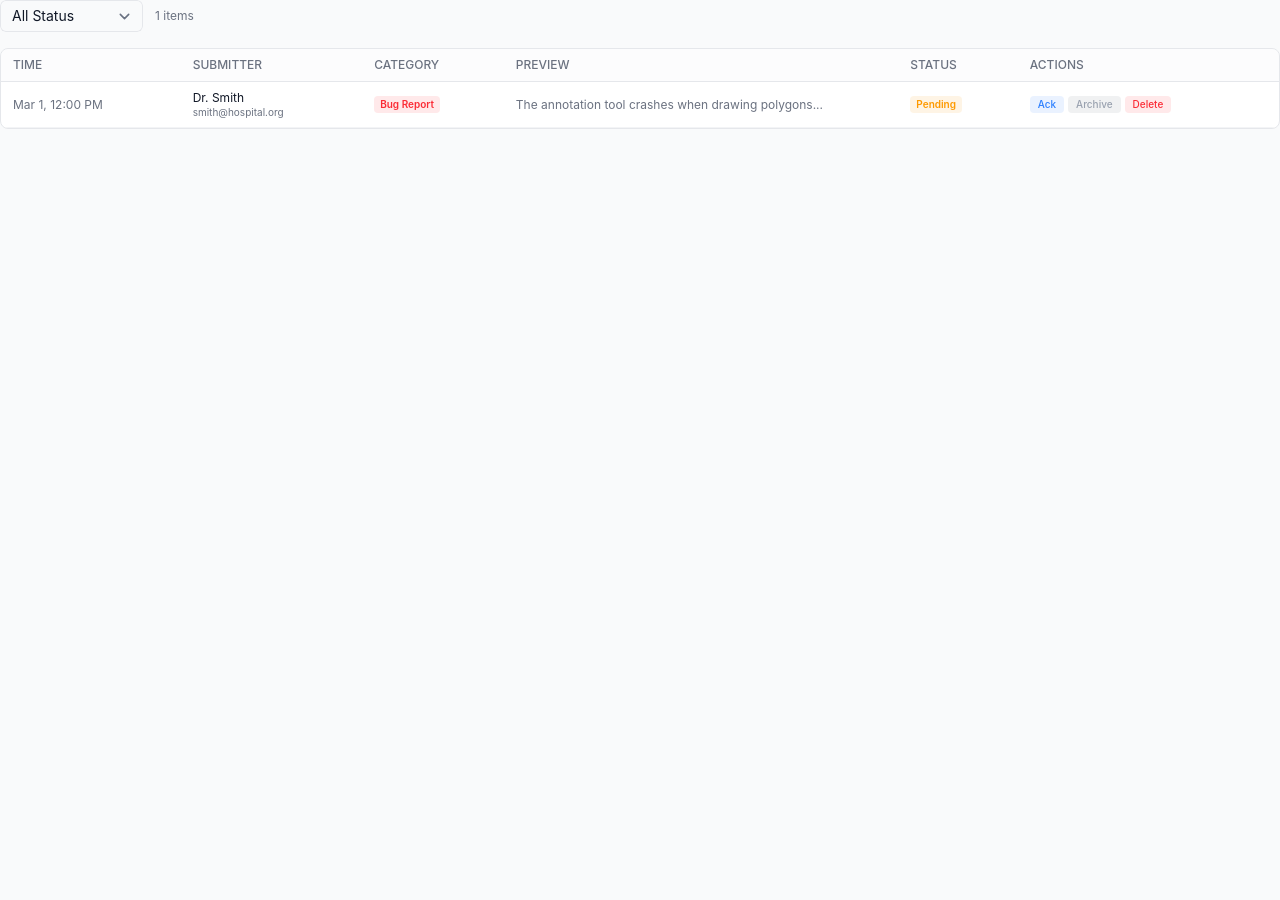
Test: Admin Feedback Page › delete with confirmation › shows confirmation dialog when Delete is clicked
What coordinates should you click on to do the following:
click the button "Delete"
I would click on:
 (1148, 105)
Its box is [1125,96,1171,113].
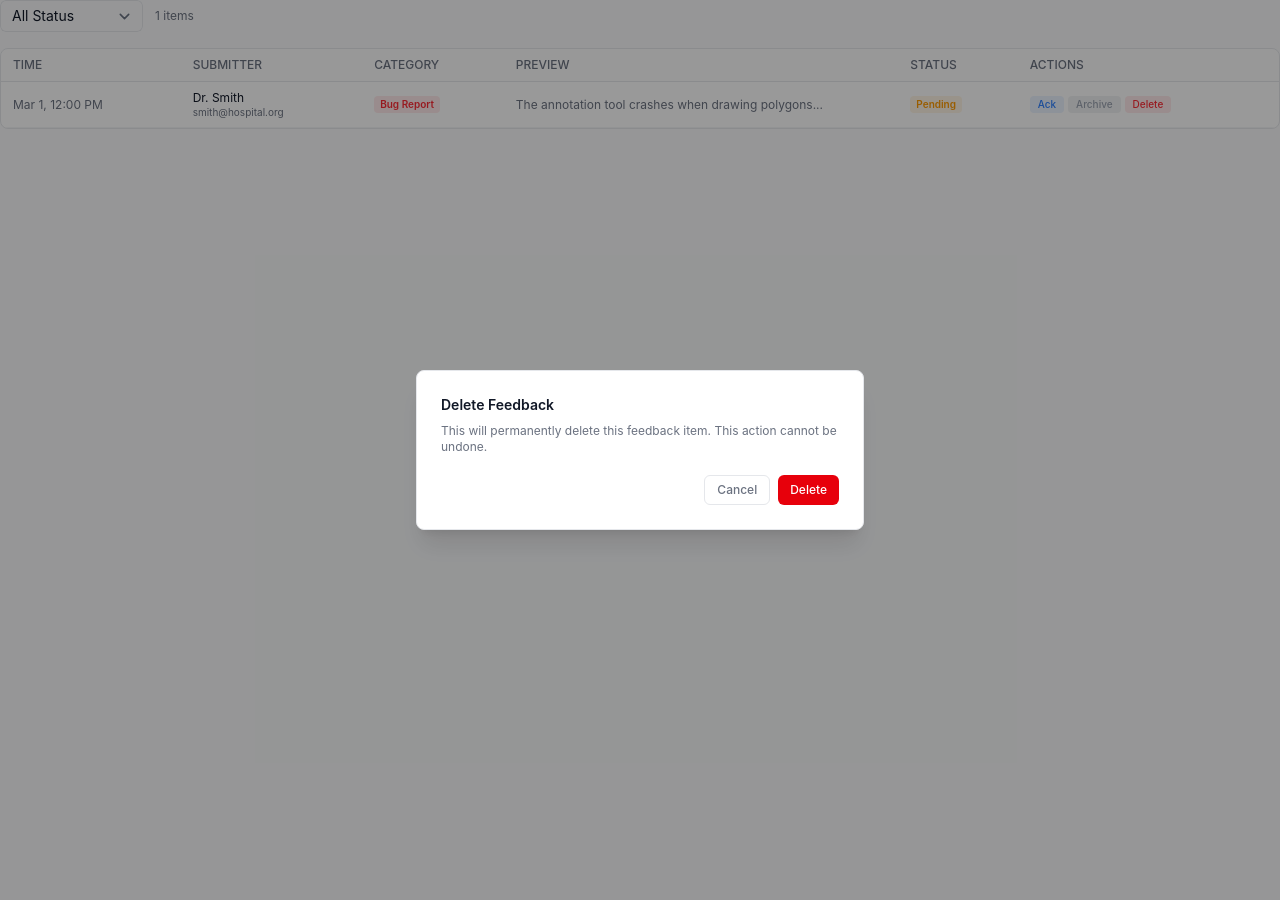
Expected: the text "Delete Feedback" is shown, [441,396,554,413]
Expected: the text "permanently delete" is shown, [441,423,837,454]
